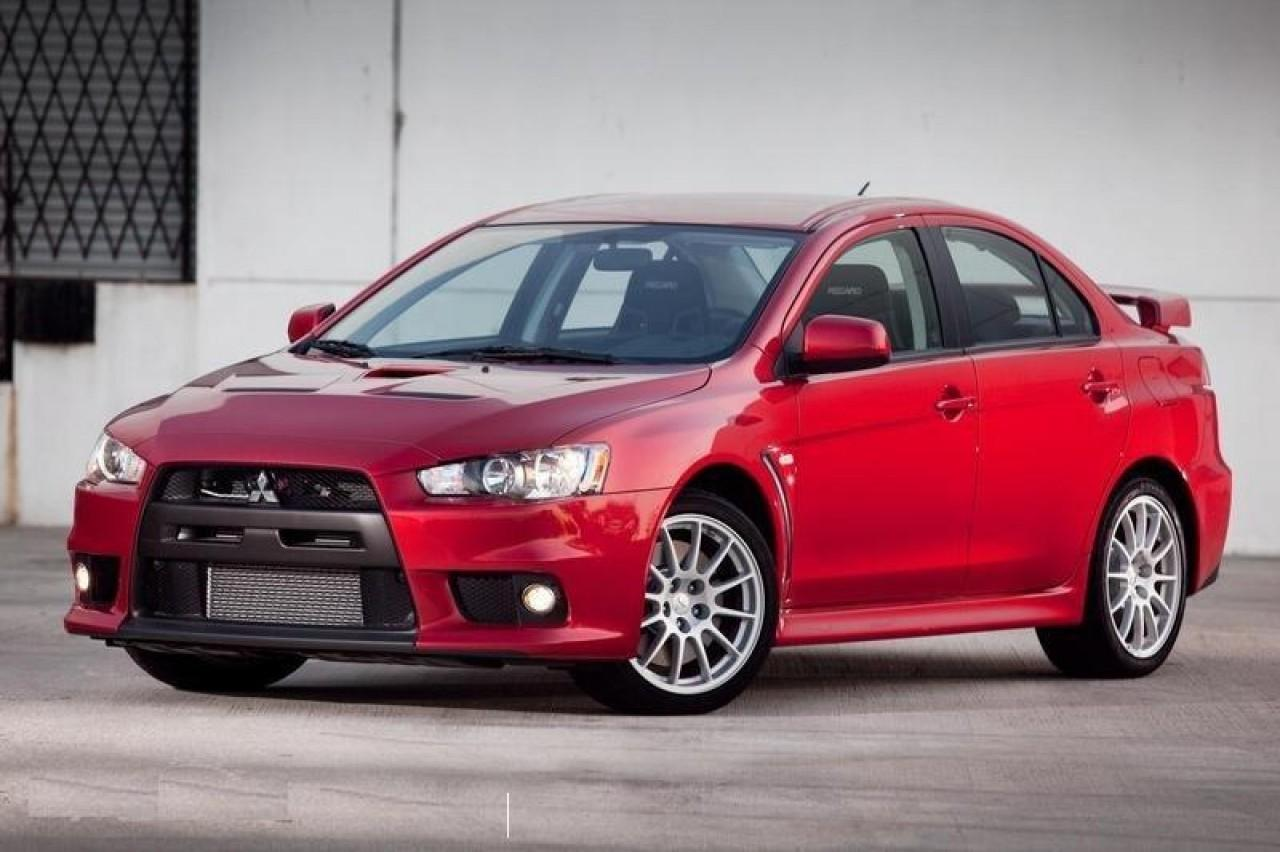Mitsubishi: (244, 465, 295, 511)
